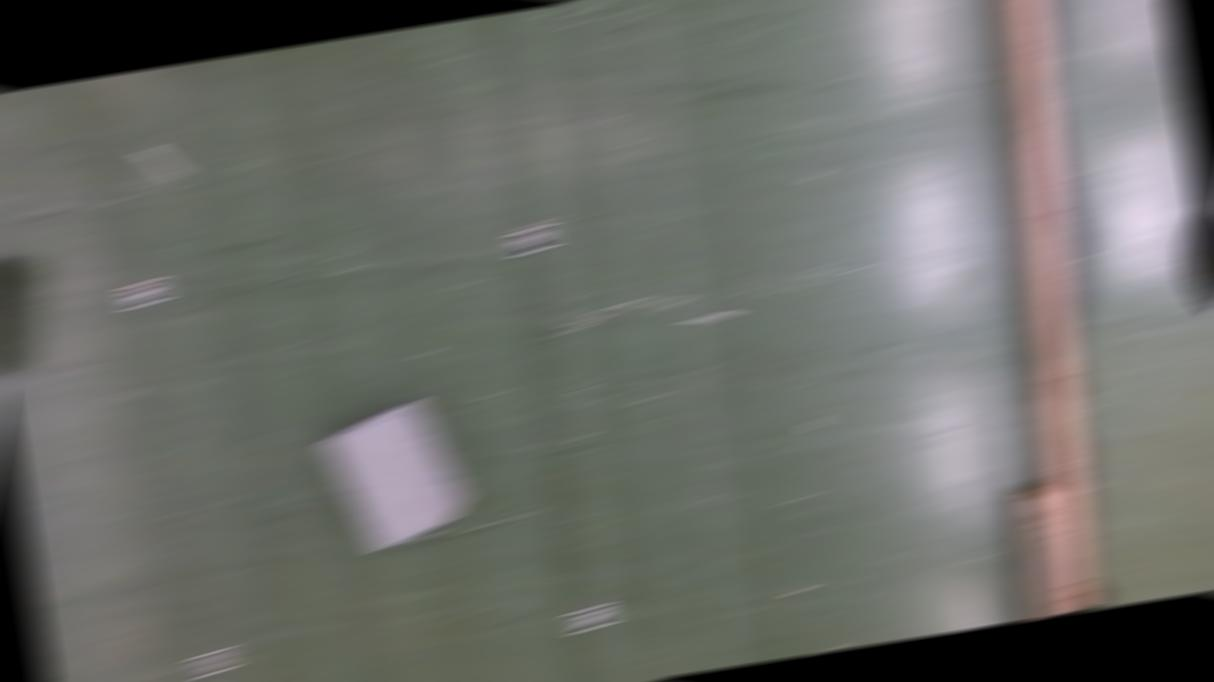probes: (680, 310, 741, 327)
rako: (312, 393, 476, 552), (0, 242, 33, 373)
